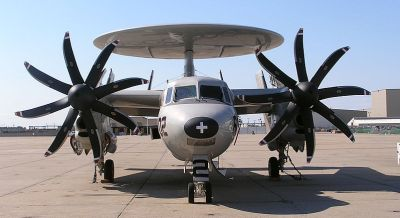Propeller: (256, 30, 370, 159), (31, 35, 142, 160)
